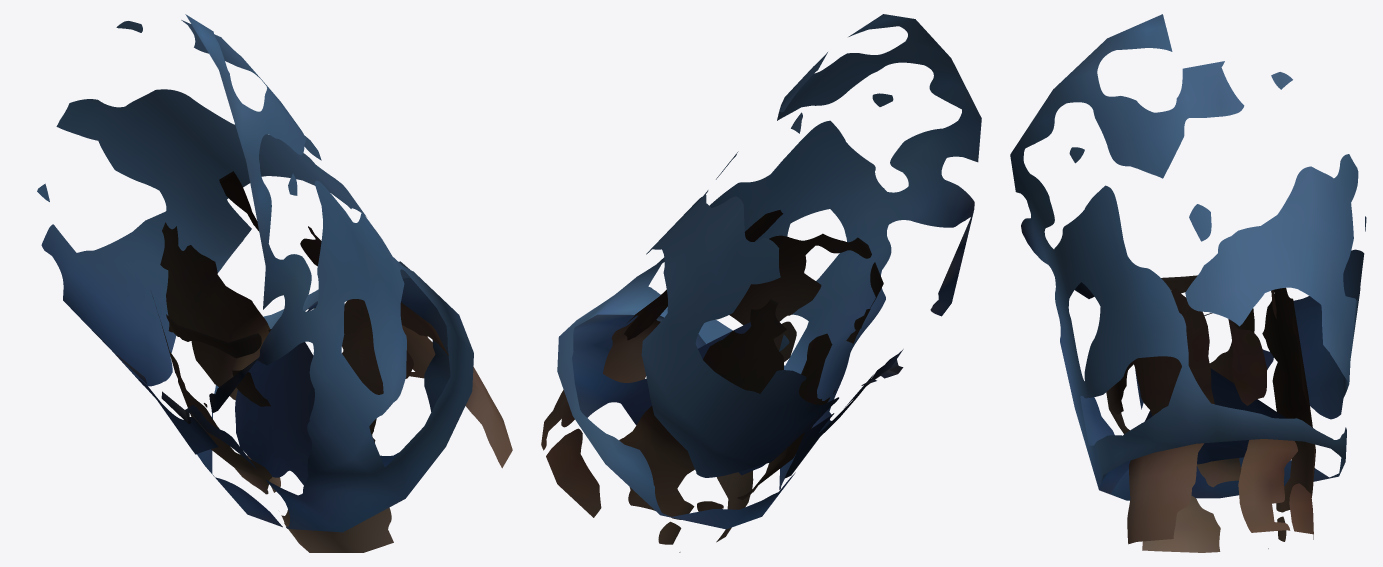
Rendered from TopLeftHend.obj.
3 views of the same model, side by side, from view 1: azimuth 30°, elevation 25°; view 2: azimuth 150°, elevation 25°; view 3: azimuth 270°, elevation 25° (orthographic). The views are drawn at different scales.
Visible parts, largest first — view 1: rdmobj00.000; view 2: rdmobj00.000; view 3: rdmobj00.000.
Part boxes in pixels (x1=…): rdmobj00.000: x1=37, y1=14, x2=512, y2=552; rdmobj00.000: x1=541, y1=14, x2=981, y2=552; rdmobj00.000: x1=1010, y1=14, x2=1366, y2=552.
Bounding box in the file's own units: 0.8548 × 1.31 × 0.8842.
Materials: 2 (2 with a texture image).
